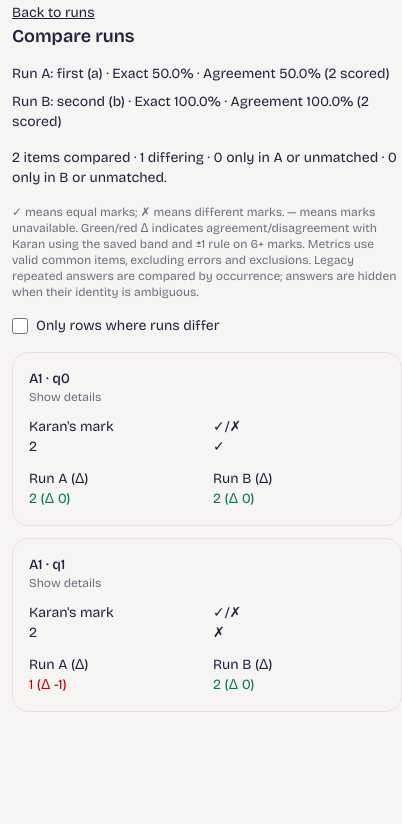
it: offers retry after detail read failure and omits absent notes
Click the button with aria-label "Expand A1 q0": [65, 397] box left=29, top=369, right=385, bottom=405
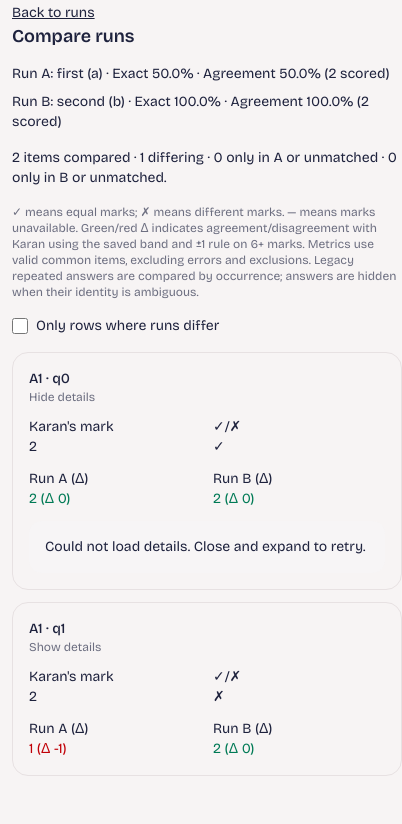
Expected: the text "Could not load details. Close and expand to retry." is shown, left=45, top=537, right=369, bottom=557
Click the button with aria-label "Expand A1 q0": [62, 397] box left=29, top=369, right=385, bottom=405
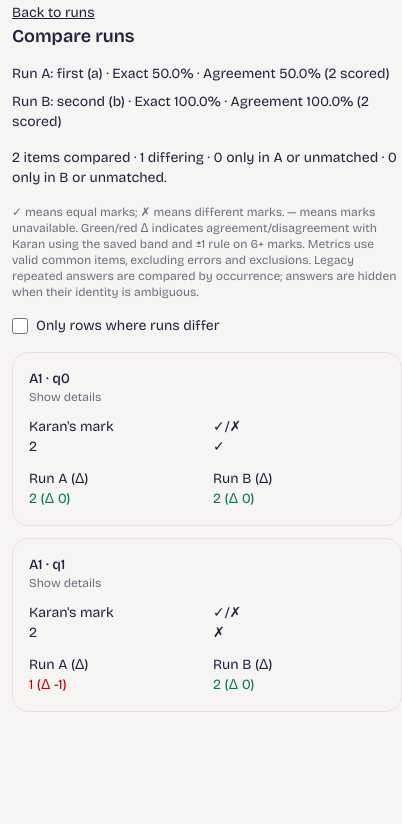
Click the button with aria-label "Expand A1 q0": [65, 397] box left=29, top=369, right=385, bottom=405
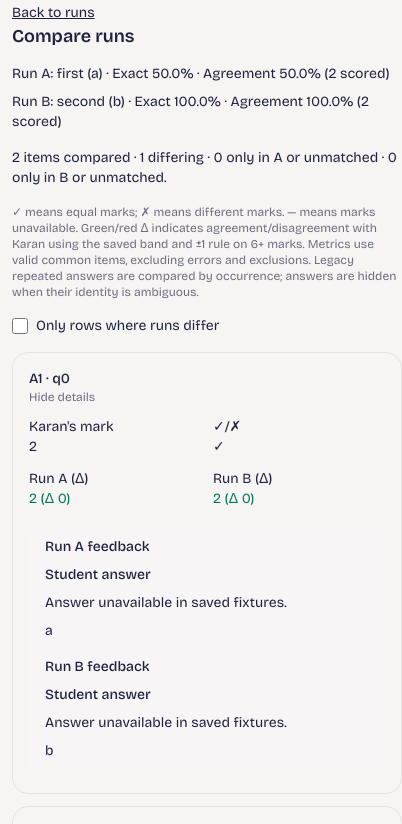
Expected: the heading "Run A feedback" is shown, left=45, top=538, right=150, bottom=555
